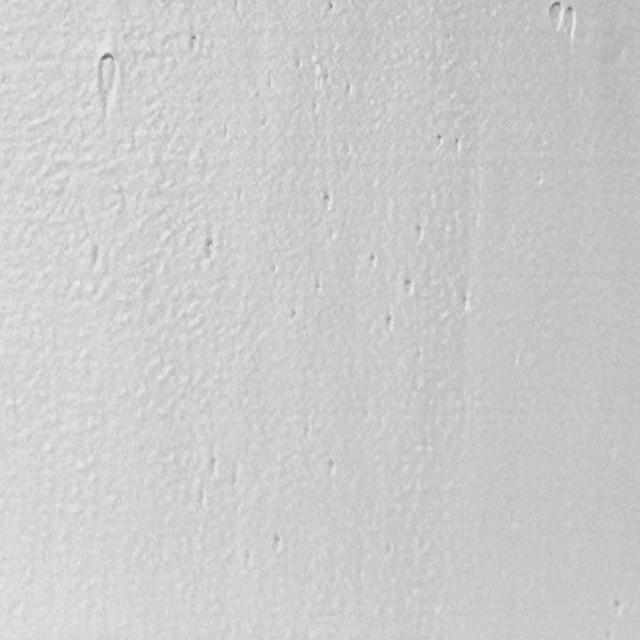pin holes: (94, 49, 124, 105), (562, 3, 577, 47), (545, 1, 565, 32), (269, 534, 288, 559), (202, 236, 220, 262), (206, 453, 224, 478), (322, 458, 341, 481), (317, 190, 335, 213), (383, 312, 399, 335), (402, 277, 418, 298), (90, 241, 100, 269), (412, 223, 426, 242), (611, 595, 625, 614), (342, 82, 356, 100), (188, 35, 201, 54), (325, 0, 340, 16), (461, 294, 474, 312), (312, 280, 324, 298), (434, 132, 447, 148), (288, 306, 301, 322), (369, 253, 380, 270), (452, 135, 462, 152)
